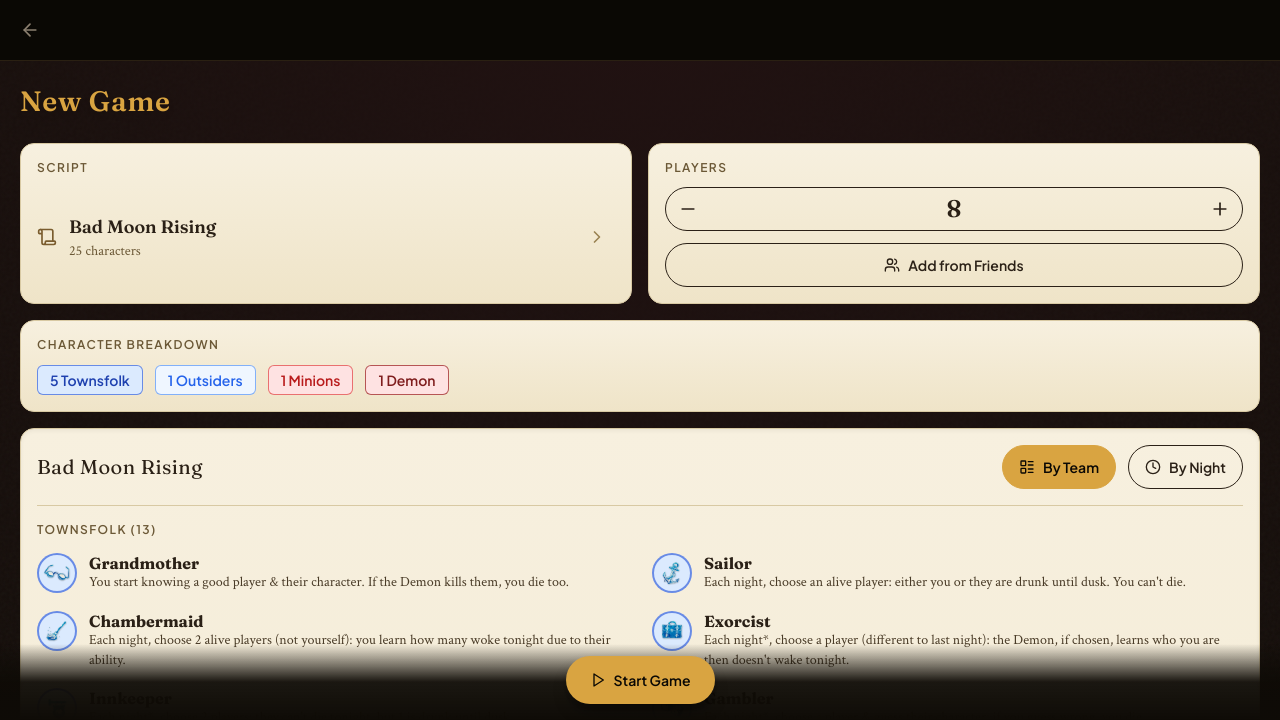
Test: Game entry from a Play card › shows setup over a saved game, and Start replaces it with the chosen script
expect the element with test id "card-script" shows "Bad Moon Rising": met, box [33, 183, 611, 291]
Click the button with test id "button-start-game": (640, 680) [566, 656, 714, 704]
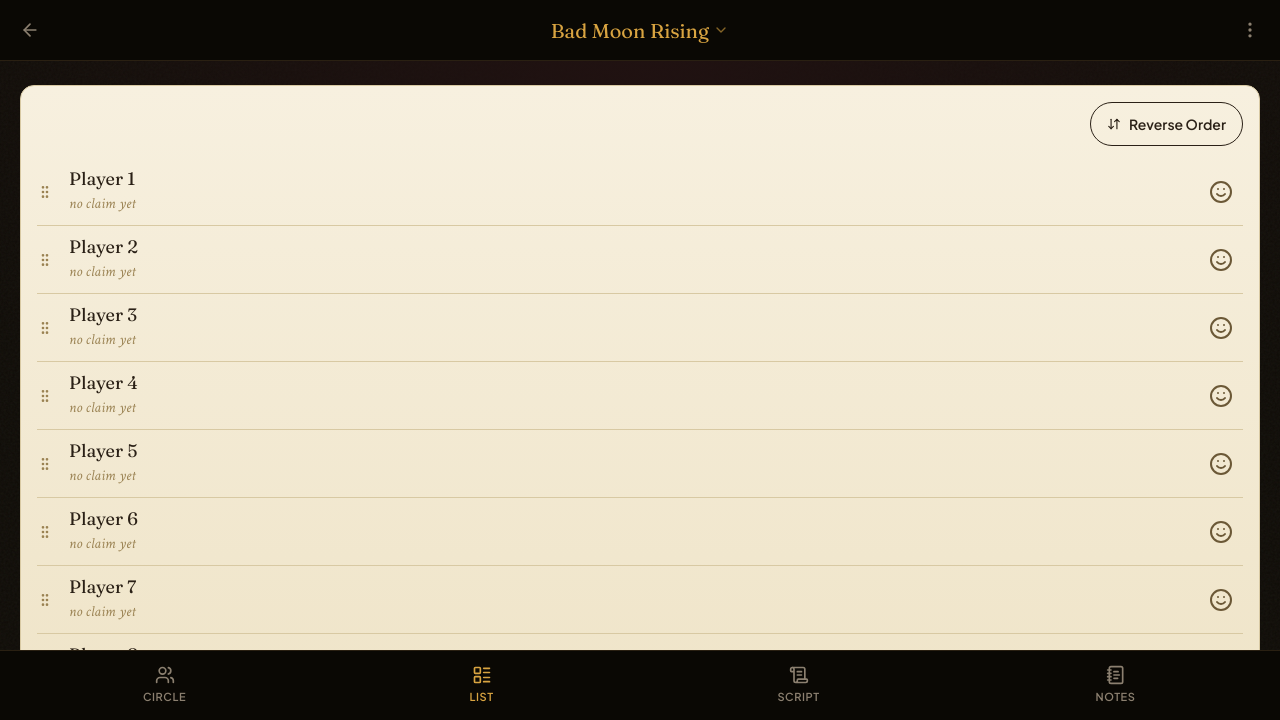
expect the navigation bar with test id "nav-tracker" is shown: met, box [0, 650, 1279, 719]
